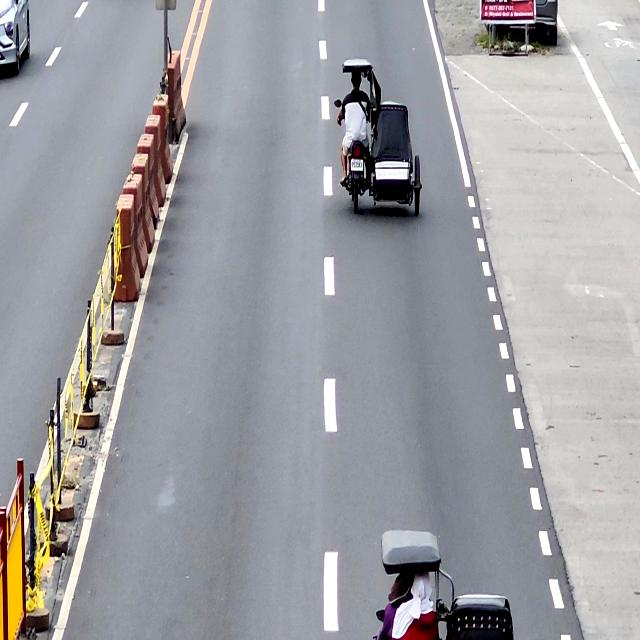License-Plate: (350, 159, 363, 172)
Tricycle: (334, 58, 422, 218)
